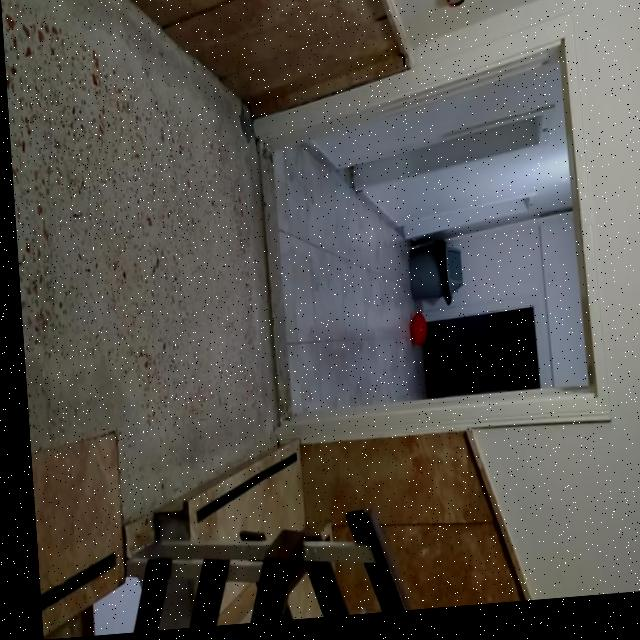balloon: (401, 314, 429, 360)
